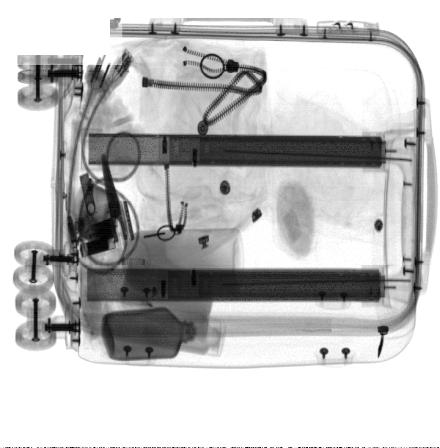Scissors: (100, 154, 154, 290)
